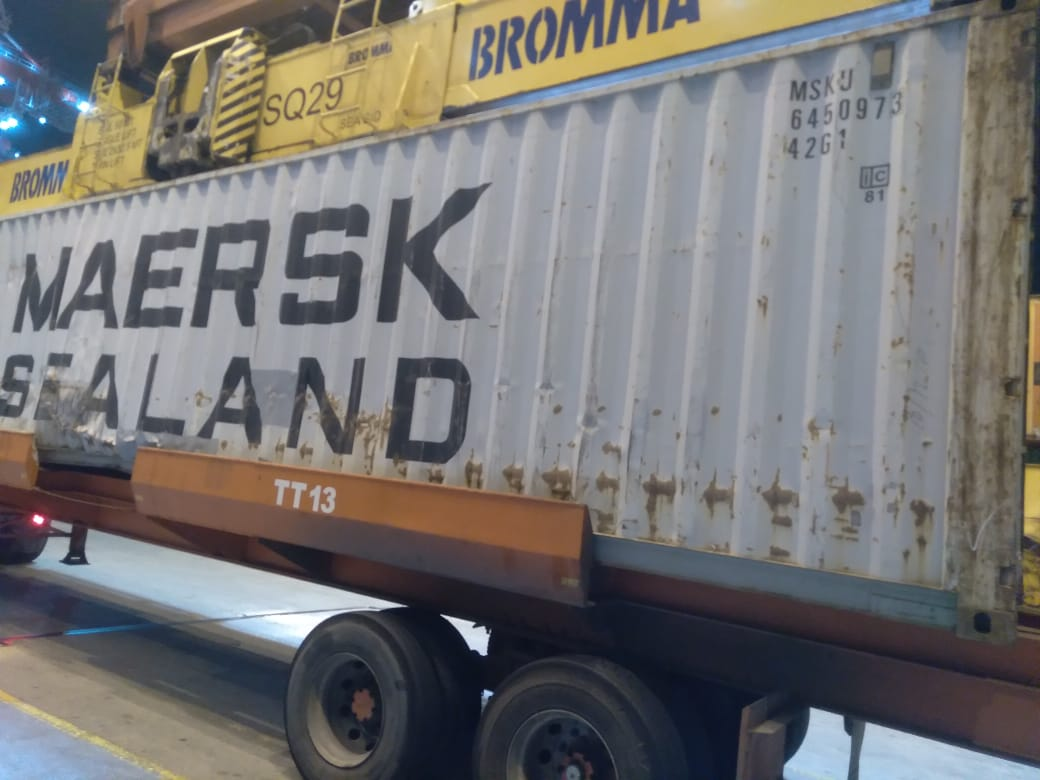bulged: (403, 476, 939, 512), (45, 385, 245, 477)
